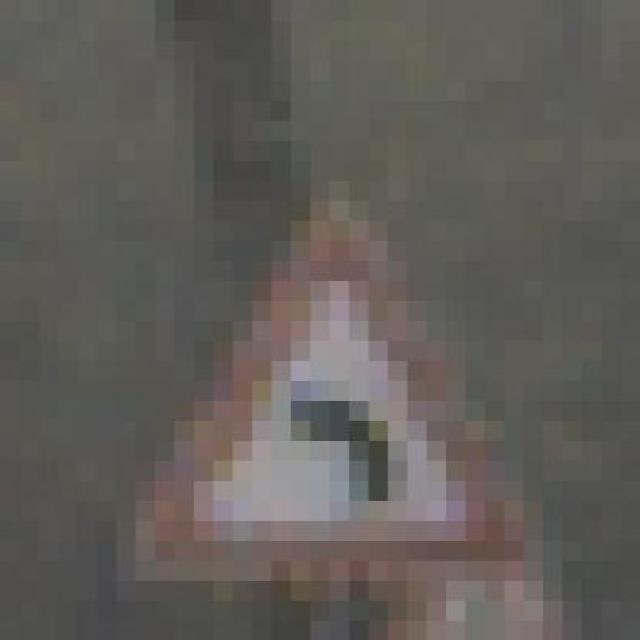Dangerous Left Curve Ahead: (116, 140, 504, 580)
